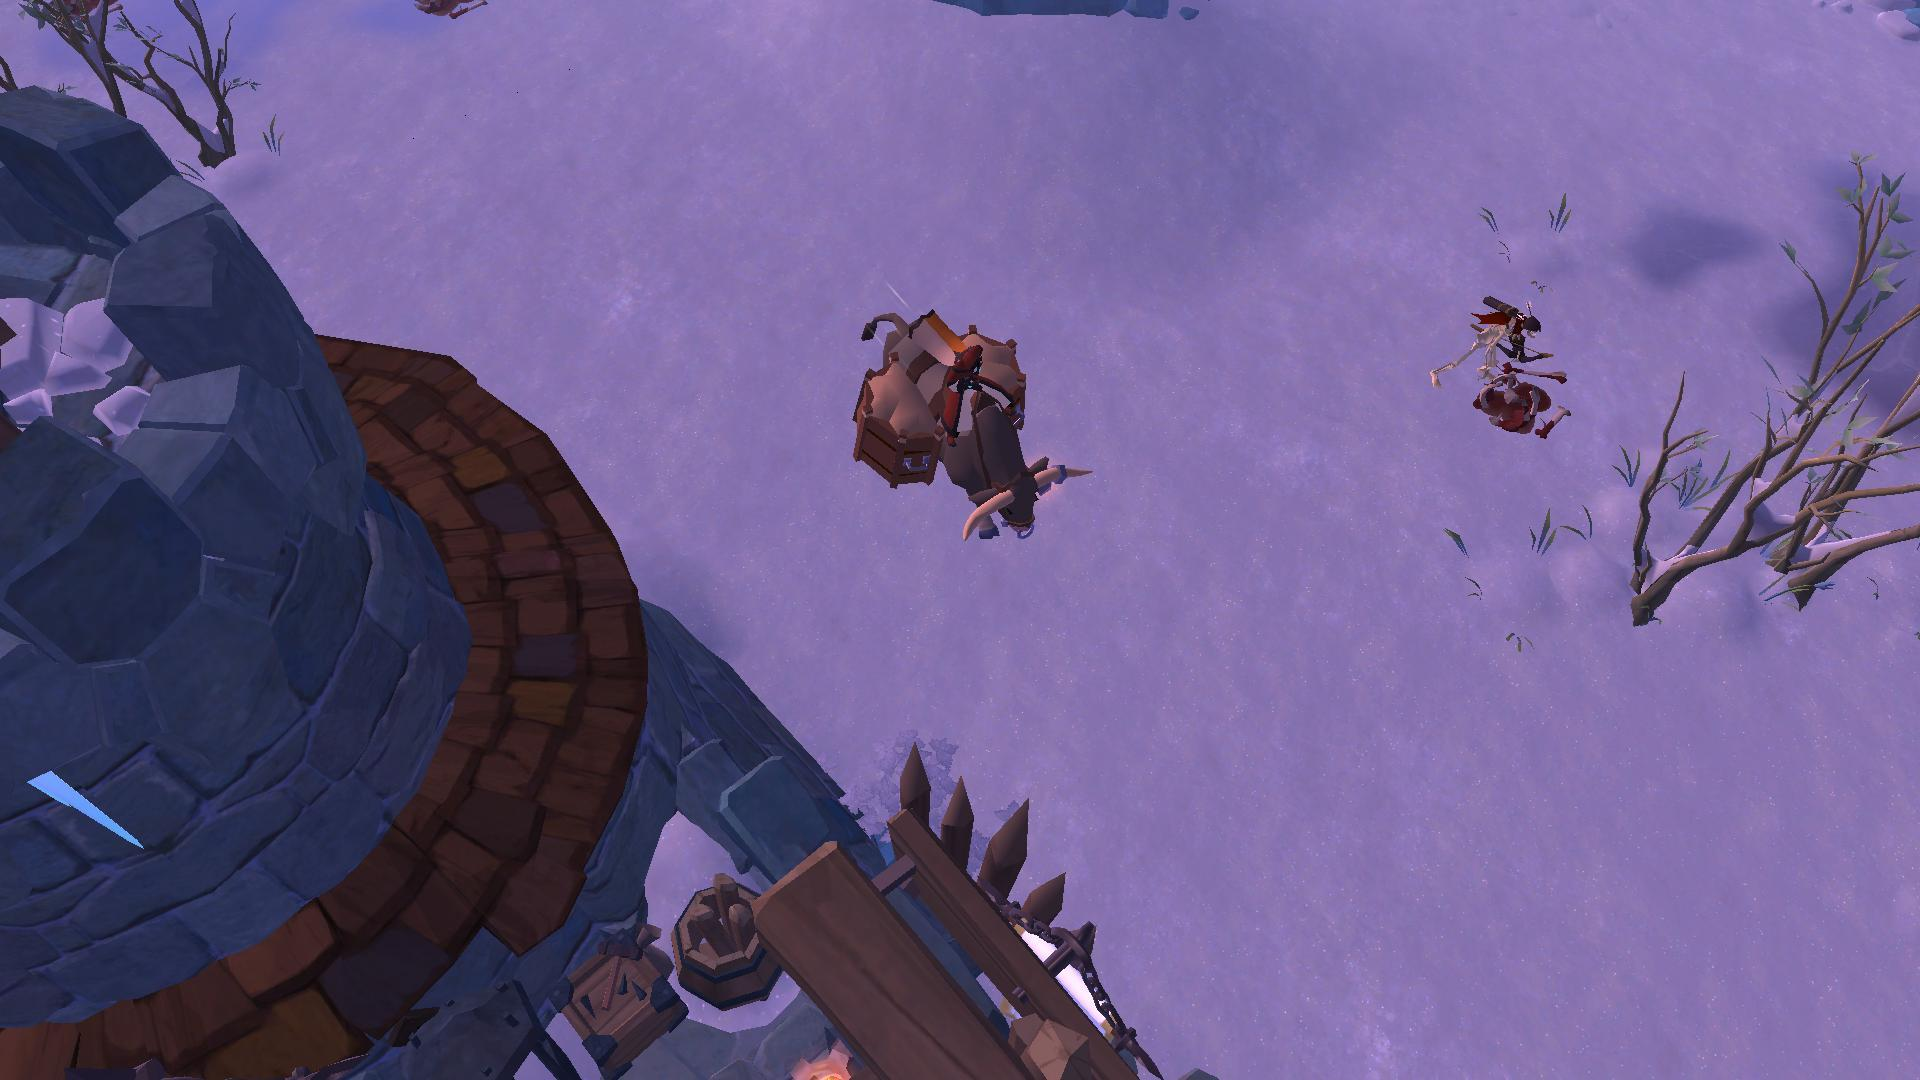enemy_factionUndead: (1428, 299, 1540, 400)
